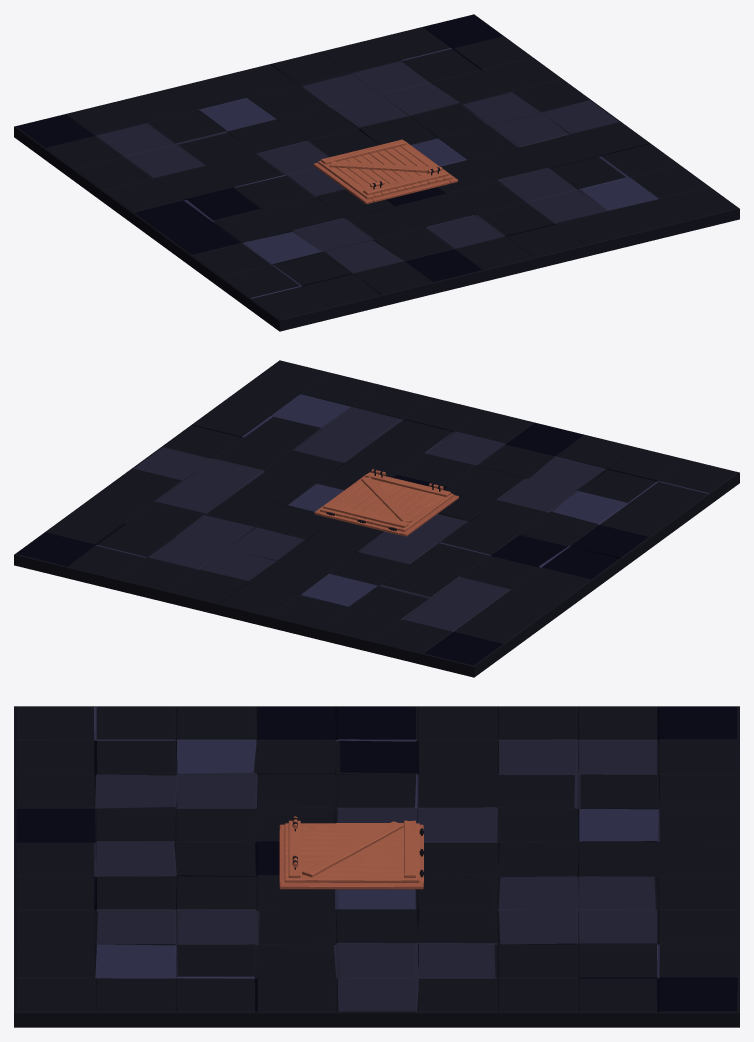
The model's file is floor with hatch closed.fbx.
The picture shows the model from 3 angles, top to bottom: view 1: azimuth 30°, elevation 25°; view 2: azimuth 150°, elevation 25°; view 3: azimuth 270°, elevation 25°; orthographic projection. The views are drawn at different scales.
Parts seen in each view (by area): view 1: floor with hatch closed; view 2: floor with hatch closed; view 3: floor with hatch closed.
Boxes of the visible parts, <box> form: floor with hatch closed: <box>14,14,739,331</box>; floor with hatch closed: <box>14,360,739,677</box>; floor with hatch closed: <box>14,706,739,1027</box>.
Size of the model in its own units: 600 by 31.98 by 600.
